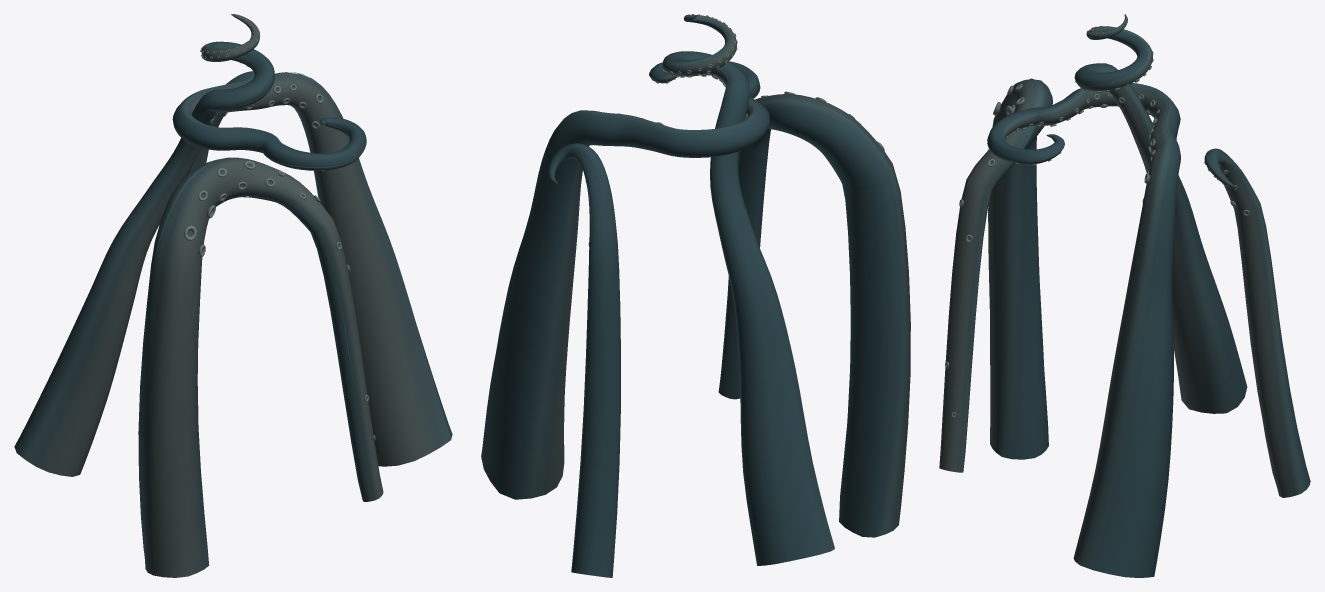
Rendered from rocket_kraken.glb.
The picture shows the model from 3 angles, left to right: view 1: azimuth 30°, elevation 25°; view 2: azimuth 150°, elevation 25°; view 3: azimuth 270°, elevation 25°; orthographic projection. The views are drawn at different scales.
Visible parts, largest first — view 1: BreachArch, ShelfGrip, CrownCoil; view 2: BreachArch, ShelfGrip, CrownCoil, SpurHook; view 3: ShelfGrip, BreachArch, CrownCoil, SpurHook.
Boxes of the visible parts, x1=… form: BreachArch: x1=138, y1=157, x2=383, y2=577; ShelfGrip: x1=172, y1=72, x2=452, y2=466; CrownCoil: x1=14, y1=14, x2=274, y2=476; BreachArch: x1=718, y1=91, x2=910, y2=537; ShelfGrip: x1=481, y1=61, x2=769, y2=499; CrownCoil: x1=662, y1=14, x2=834, y2=565; SpurHook: x1=548, y1=143, x2=620, y2=577; ShelfGrip: x1=987, y1=83, x2=1180, y2=577; BreachArch: x1=939, y1=78, x2=1052, y2=472; CrownCoil: x1=1074, y1=14, x2=1247, y2=413; SpurHook: x1=1204, y1=148, x2=1310, y2=497.
Bounding box in the file's own units: 11.14 × 13.84 × 9.54.
